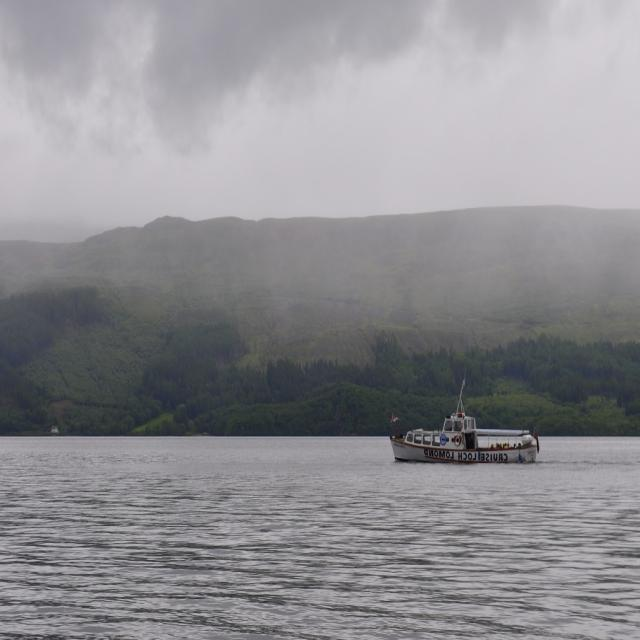fishing boat: (389, 381, 542, 468)
